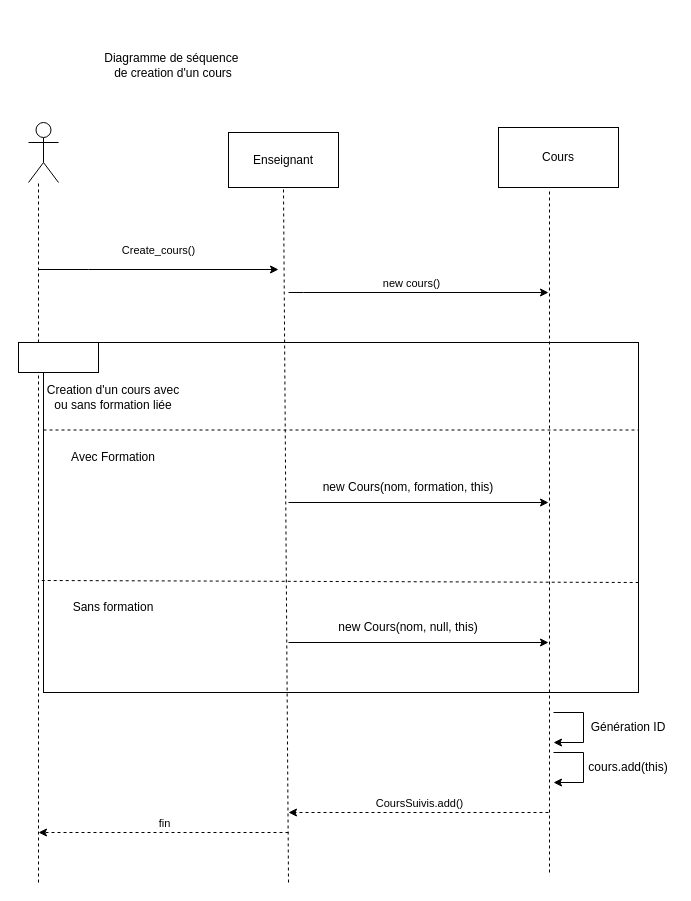
The diagram is 691 pixels wide and 901 high, and some of its shapes have lost their labels. The shapes that lost their labels are listed below. From the top down, each one's centre as x and y in pixels, then its label:
At (x=43, y=152): "Eseignant".
At (x=58, y=357): "Alternatif".
